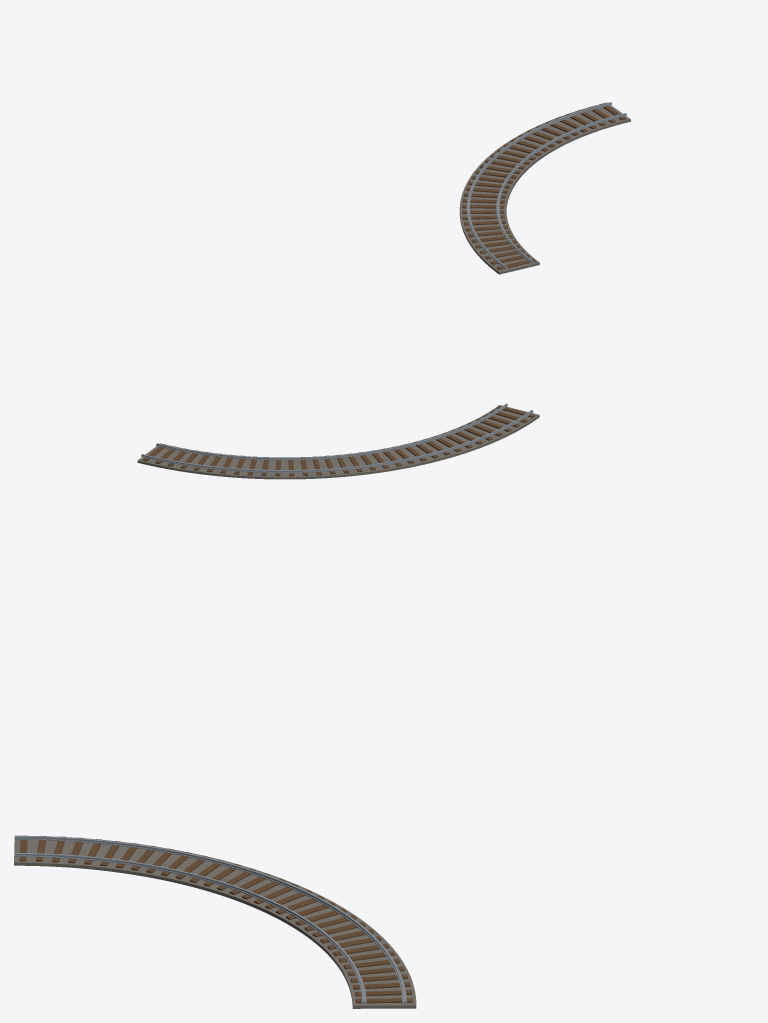
File: rail_virage_grand.glb
The picture shows the model from 3 angles, top to bottom: view 1: azimuth 30°, elevation 25°; view 2: azimuth 150°, elevation 25°; view 3: azimuth 270°, elevation 25°; orthographic projection. The views are drawn at different scales.
Visible parts, largest first — view 1: rail_ballast.010, rail_traverse.010, rail_rail.010; view 2: rail_ballast.010, rail_traverse.010, rail_rail.010; view 3: rail_ballast.010, rail_traverse.010, rail_rail.010.
Part boxes in pixels (x1,y1,x2,y2): rail_ballast.010: (459,102,630,274); rail_traverse.010: (462,103,625,269); rail_rail.010: (466,102,626,269); rail_ballast.010: (137,405,539,479); rail_traverse.010: (143,406,534,476); rail_rail.010: (141,403,533,472); rail_ballast.010: (14,835,416,1008); rail_traverse.010: (19,835,412,1003); rail_rail.010: (14,836,406,1003).
Bounding box in the file's own units: 11.02 × 0.12 × 11.02.
